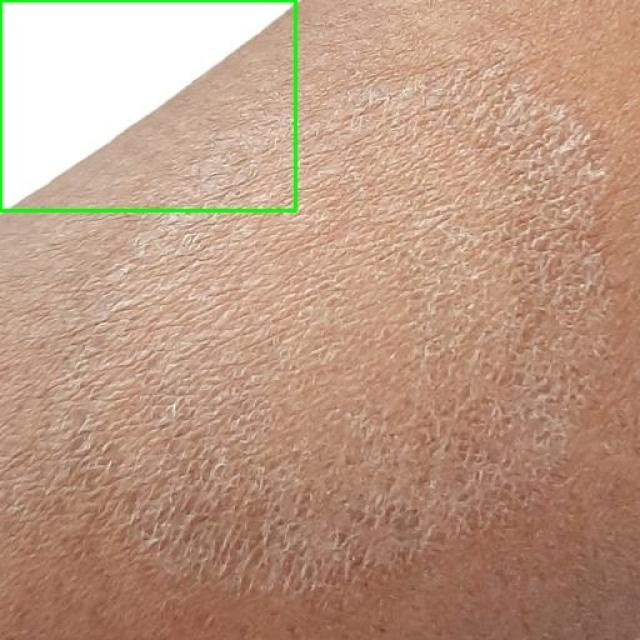Tinea Corporis: (0, 0, 295, 210)
